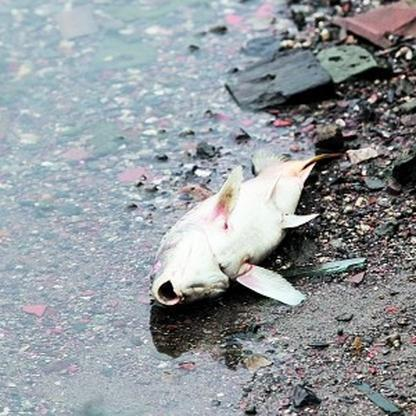deceased fish: (150, 151, 317, 309)
